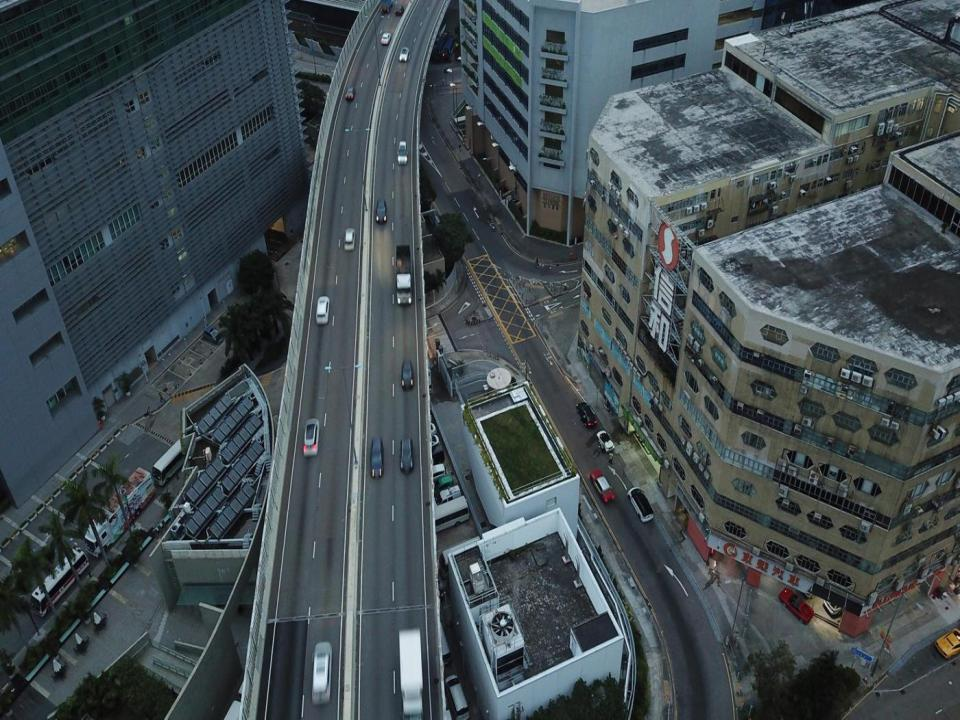bus: (30, 545, 89, 614), (151, 433, 194, 486)
car: (311, 640, 333, 706), (779, 586, 816, 625), (442, 674, 471, 718), (627, 486, 655, 526), (590, 467, 617, 506), (936, 620, 959, 660), (302, 417, 320, 458), (369, 437, 386, 478), (575, 400, 598, 428), (398, 359, 418, 391), (399, 438, 415, 475), (428, 476, 453, 498), (595, 429, 616, 454), (421, 444, 444, 466), (202, 324, 224, 346), (425, 464, 448, 484), (315, 295, 330, 325), (375, 198, 388, 225), (343, 227, 356, 252), (397, 139, 408, 167), (345, 86, 356, 102), (399, 46, 409, 63), (381, 32, 390, 45), (394, 5, 403, 18)
truck: (84, 467, 156, 557), (392, 625, 432, 716), (394, 243, 414, 306)
van: (430, 495, 470, 533), (428, 484, 461, 511)
